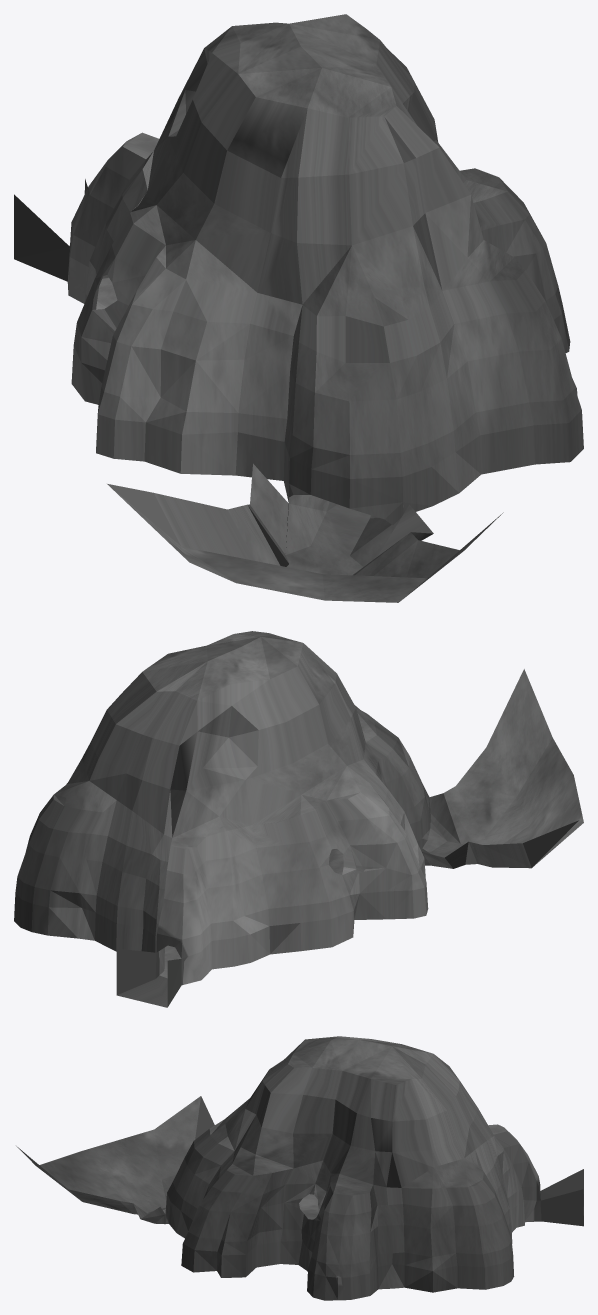
File: Cave.FBX
3 renders of one model, top to bottom at view 1: azimuth 30°, elevation 25°; view 2: azimuth 150°, elevation 25°; view 3: azimuth 270°, elevation 25°, orthographic. The views are drawn at different scales.
Visible parts, largest first — view 1: Line001; view 2: Line001; view 3: Line001.
Part boxes in pixels (x1,y1,x2,y2): Line001: [14, 14, 583, 602]; Line001: [14, 631, 583, 1007]; Line001: [16, 1036, 583, 1300].
Bounding box in the file's own units: 545575 × 345022 × 814049.
